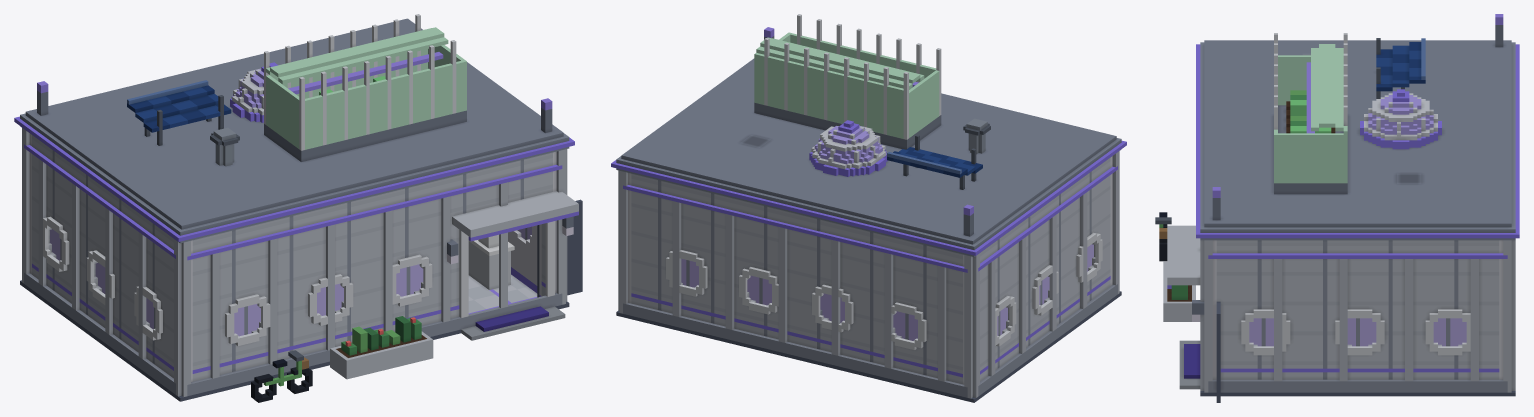
File: control_e5_l1.glb
3 renders of one model, left to right at view 1: azimuth 30°, elevation 25°; view 2: azimuth 150°, elevation 25°; view 3: azimuth 270°, elevation 25°, orthographic. The views are drawn at different scales.
Visible parts, largest first — view 1: CutRoof, CutPZ, Base, CutNX, CutNZ, CutPX; view 2: CutRoof, CutNZ, Base, CutNX, CutPZ; view 3: CutRoof, CutPX, Base, CutPZ, CutNZ.
Boxes of the visible parts, x1=… form: CutRoof: x1=14, y1=14, x2=574, y2=243; CutPZ: x1=174, y1=149, x2=582, y2=362; Base: x1=20, y1=234, x2=582, y2=402; CutNX: x1=24, y1=135, x2=175, y2=355; CutNZ: x1=22, y1=128, x2=31, y2=251; CutPX: x1=508, y1=225, x2=537, y2=259; CutRoof: x1=611, y1=14, x2=1126, y2=256; CutNZ: x1=618, y1=170, x2=979, y2=367; Base: x1=616, y1=262, x2=1121, y2=402; CutNX: x1=978, y1=158, x2=1117, y2=360; CutPZ: x1=1110, y1=151, x2=1119, y2=264; CutRoof: x1=1196, y1=14, x2=1519, y2=240; CutPX: x1=1208, y1=240, x2=1507, y2=359; Base: x1=1155, y1=212, x2=1515, y2=402; CutPZ: x1=1167, y1=225, x2=1220, y2=369; CutNZ: x1=1499, y1=240, x2=1515, y2=359.
Bounding box in the file's own units: 11.5 × 6.8 × 8.9.
